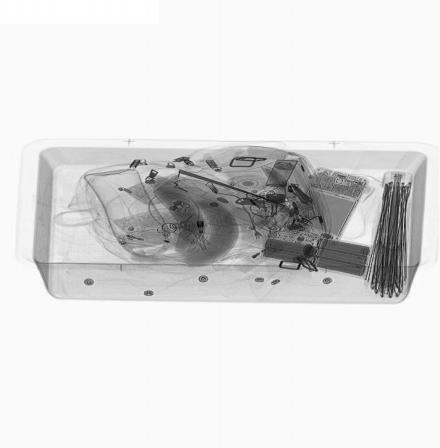Lighter: (194, 219, 215, 253)
